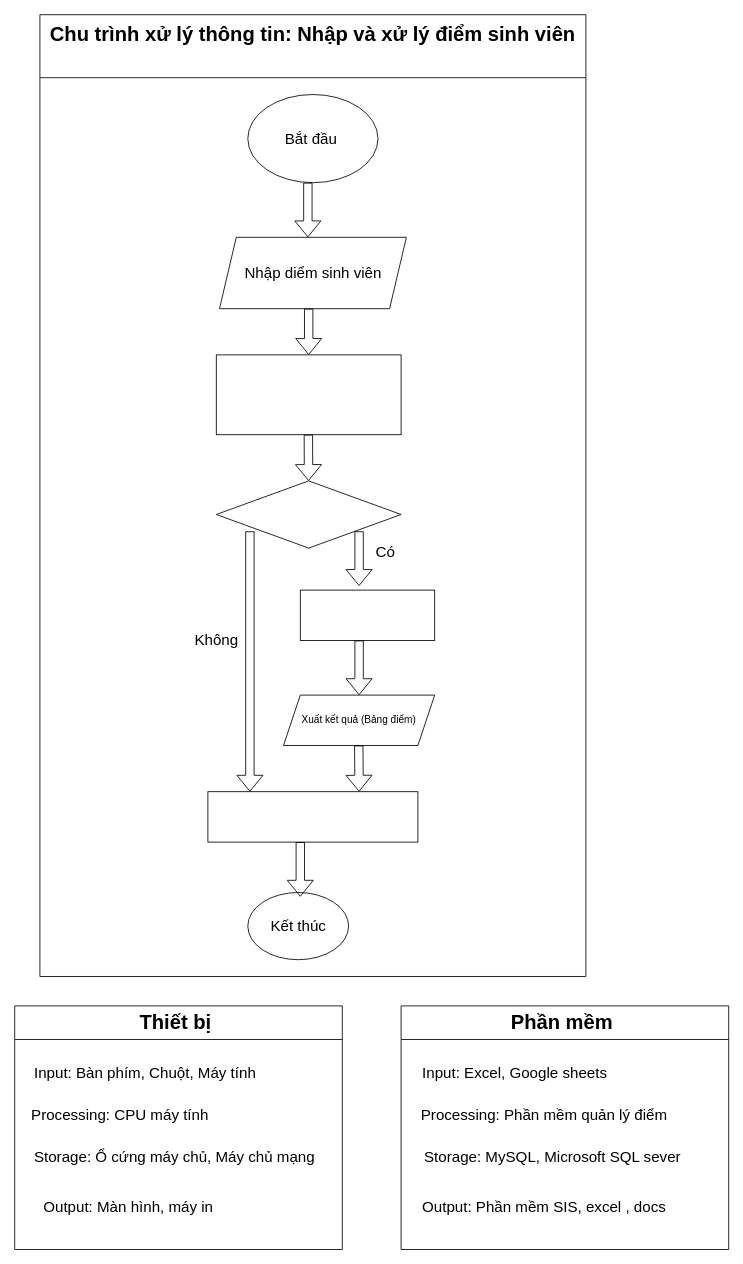
The diagram is 743 pixels wide and 1264 high, and some of its shapes have lost their labels. The centre of each missing label's shape, as x and y in pixels:
Dữ liệu hợp lệ ?: the point at 308,514
Kiểm tra dữ liệu nhập: the point at 308,394
Lưu điểm vào CSDL: the point at 367,614
Nhập lại dữ liệu: the point at 312,816
